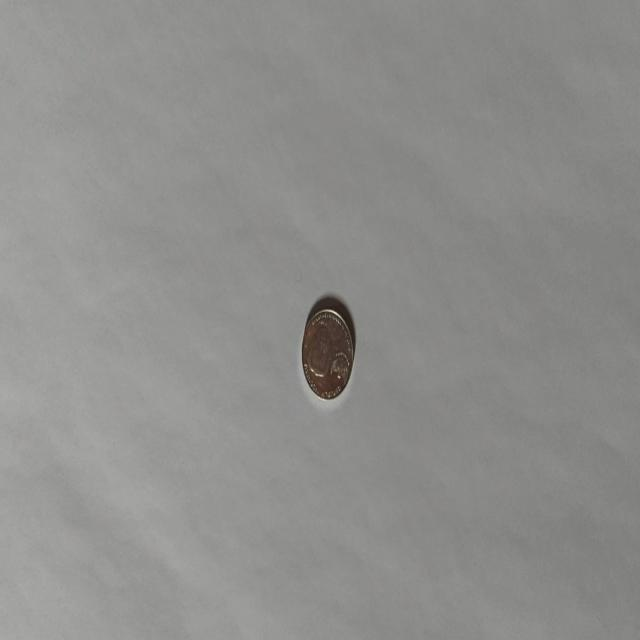seratus rupiah: (300, 306, 354, 401)
